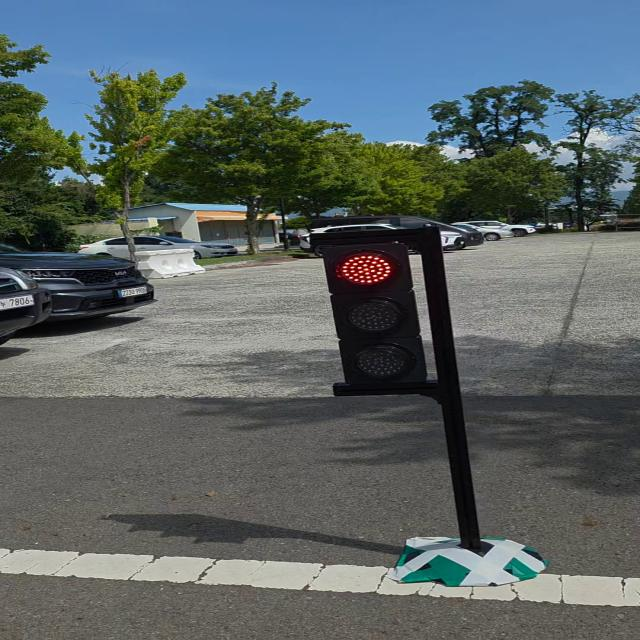red: (313, 239, 440, 392)
